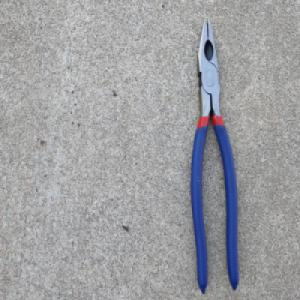Pliers: (187, 12, 240, 293)
